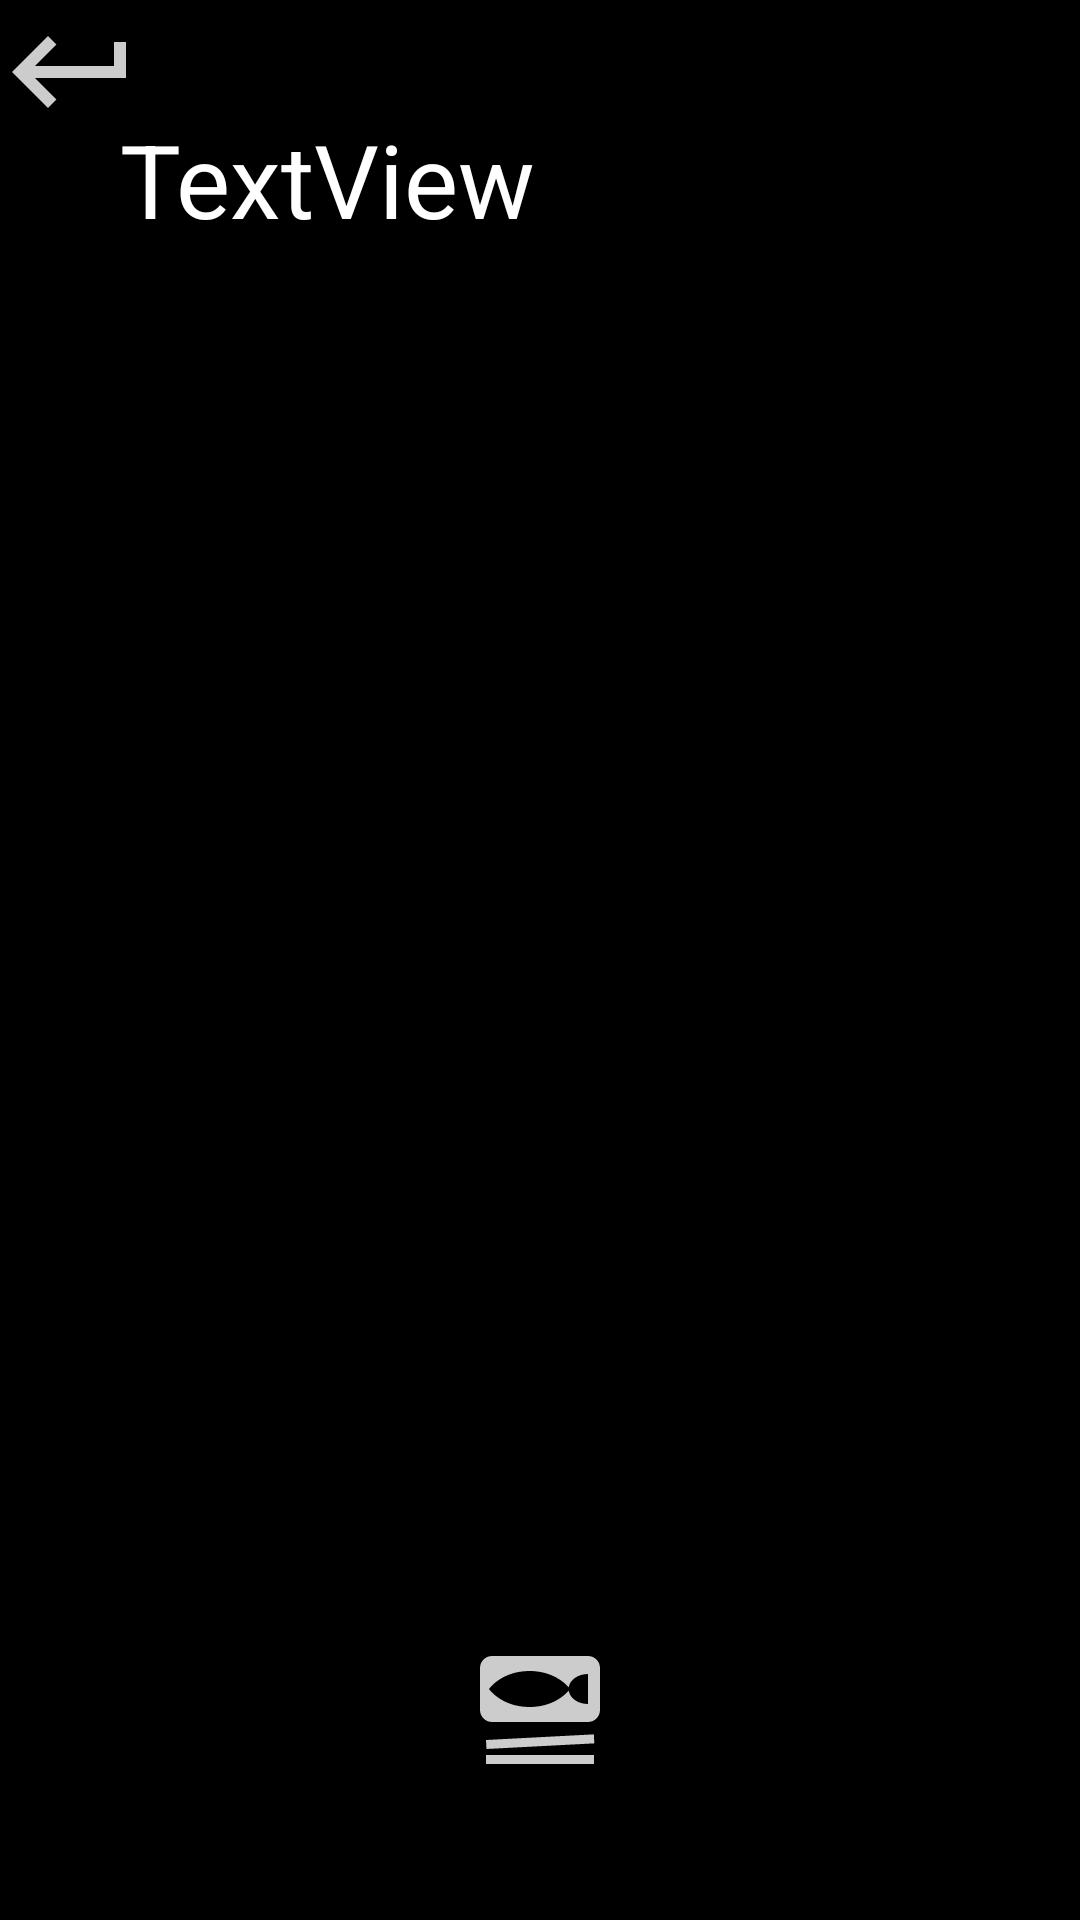

Named icons in this screenshot (1080w x 1920h) and their bounding boxes, rect(x1, y1, x2, y2):
Add meal: rect(480, 1656, 600, 1764)
Return: rect(12, 36, 126, 108)
